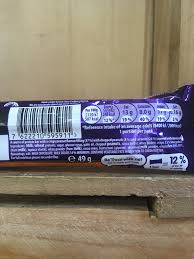Barcode: (16, 104, 74, 139)
